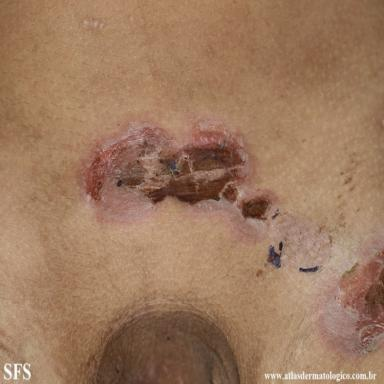Impetigo: (75, 118, 347, 281), (321, 228, 384, 363)
